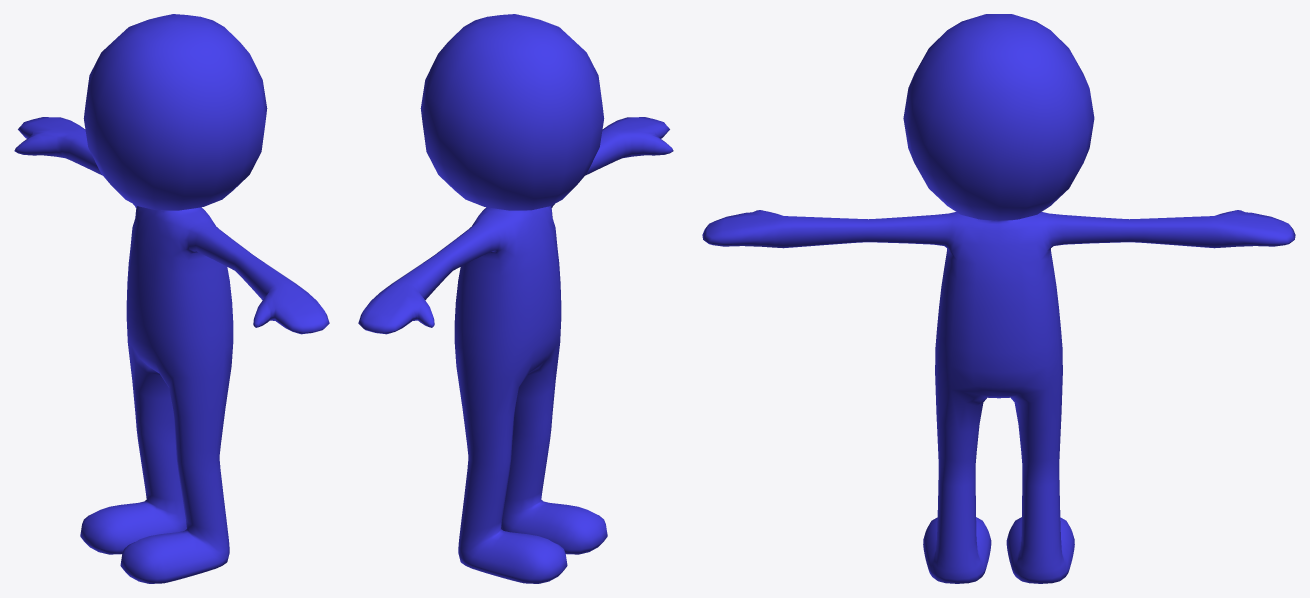
The model's file is Perso.fbx.
3 views of the same model, side by side, from view 1: azimuth 30°, elevation 25°; view 2: azimuth 150°, elevation 25°; view 3: azimuth 270°, elevation 25° (orthographic). The views are drawn at different scales.
Visible parts, largest first — view 1: Perso; view 2: Perso; view 3: Perso.
Part boxes in pixels (<box>): Perso: <box>14,14,329,583</box>; Perso: <box>358,14,673,583</box>; Perso: <box>702,14,1295,583</box>.
Bounding box in the file's own units: 6267 × 19730 × 19360.
